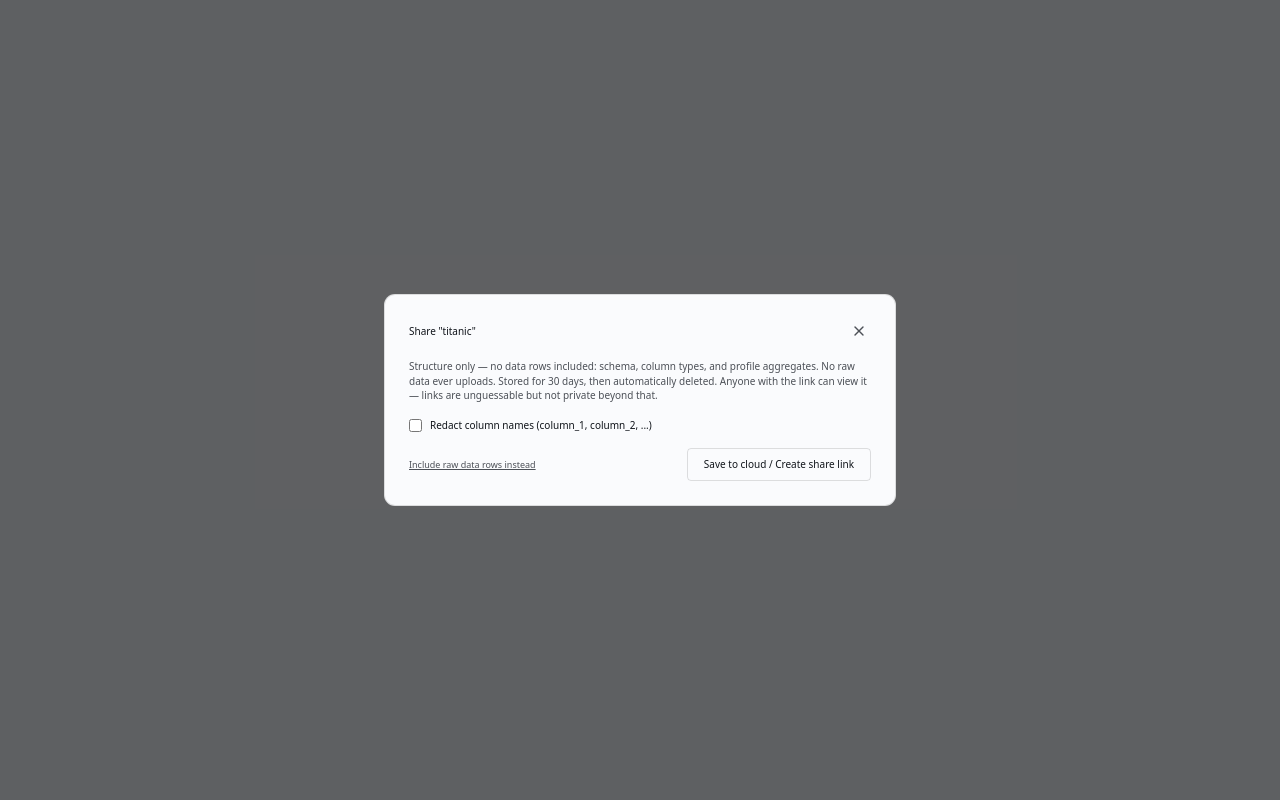
Test: ShareDialog › requires an explicit, distinct second step to escalate to a full-dataset share
The image size is (1280, 800).
Step 1. Click the button "Include raw data rows instead" → (472,465), box [409,459,536,471]
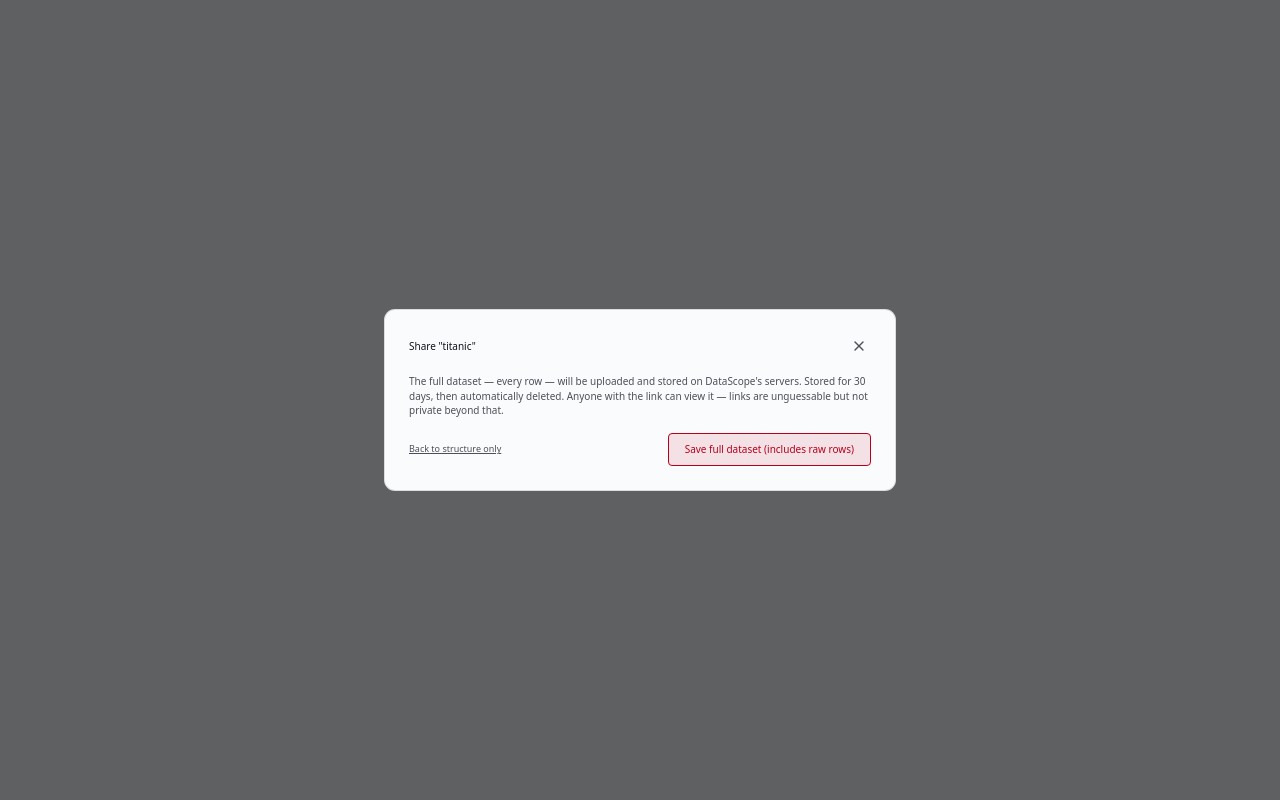
Result: the button "Save full dataset (includes raw rows)" is shown at [668,433,871,466]
Result: the button "Save to cloud" is gone
